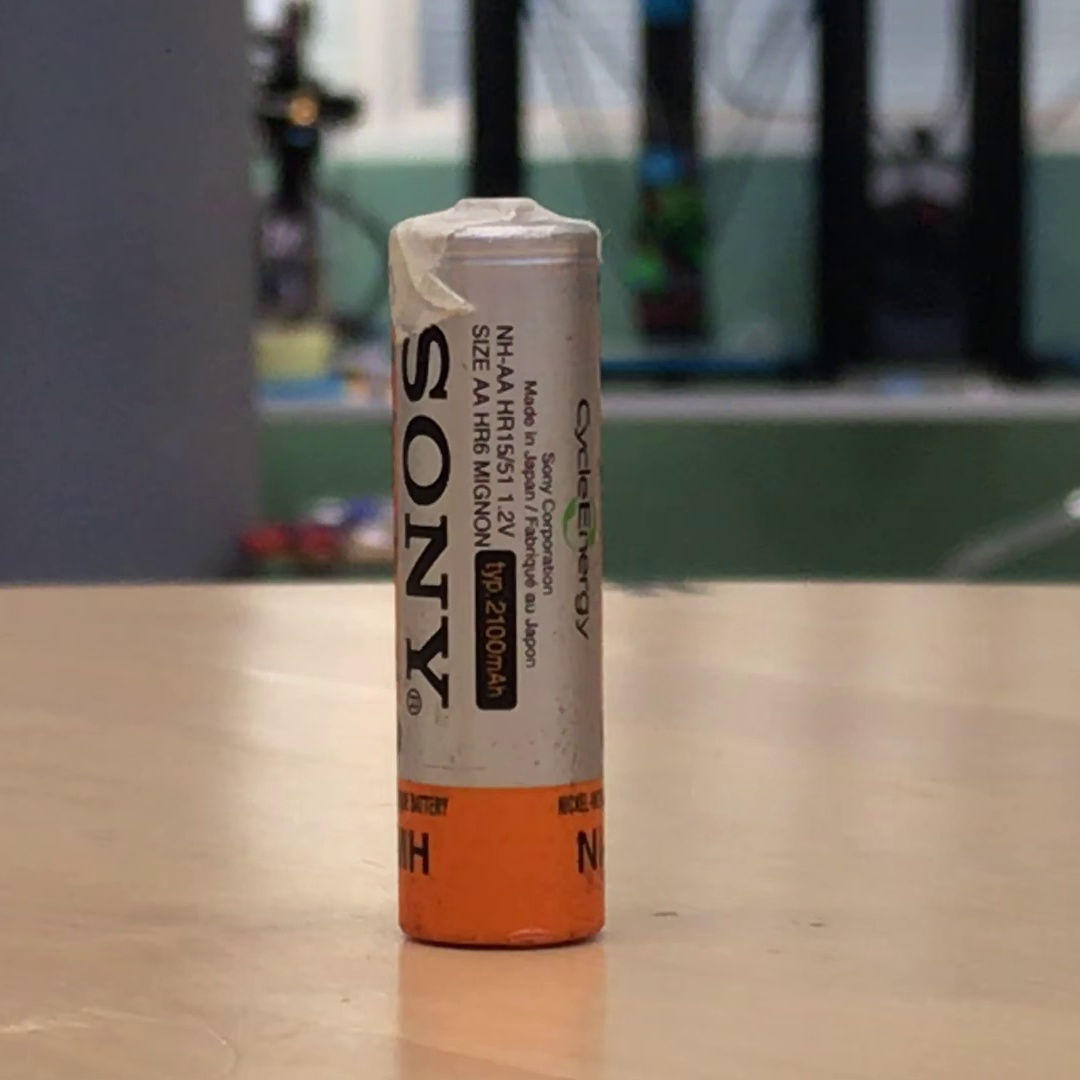keyword: (487, 484, 525, 548)
